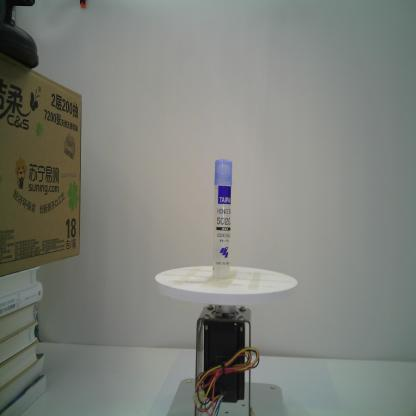Stationery: (210, 156, 234, 284)
